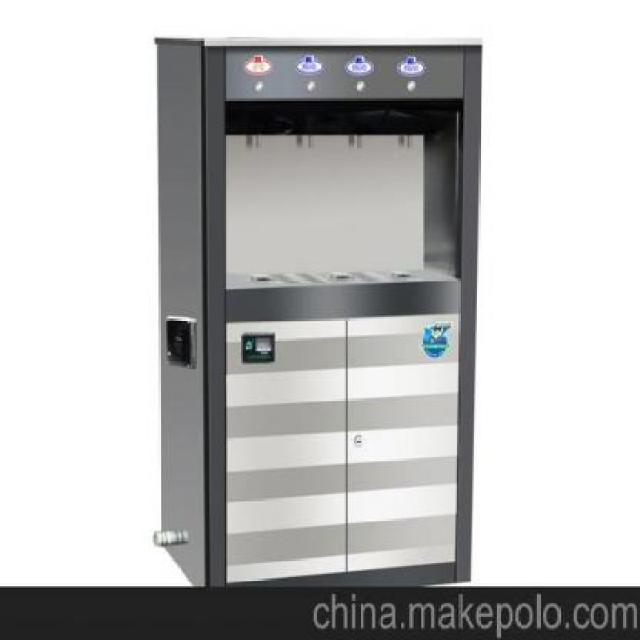cooler: (155, 28, 486, 587)
